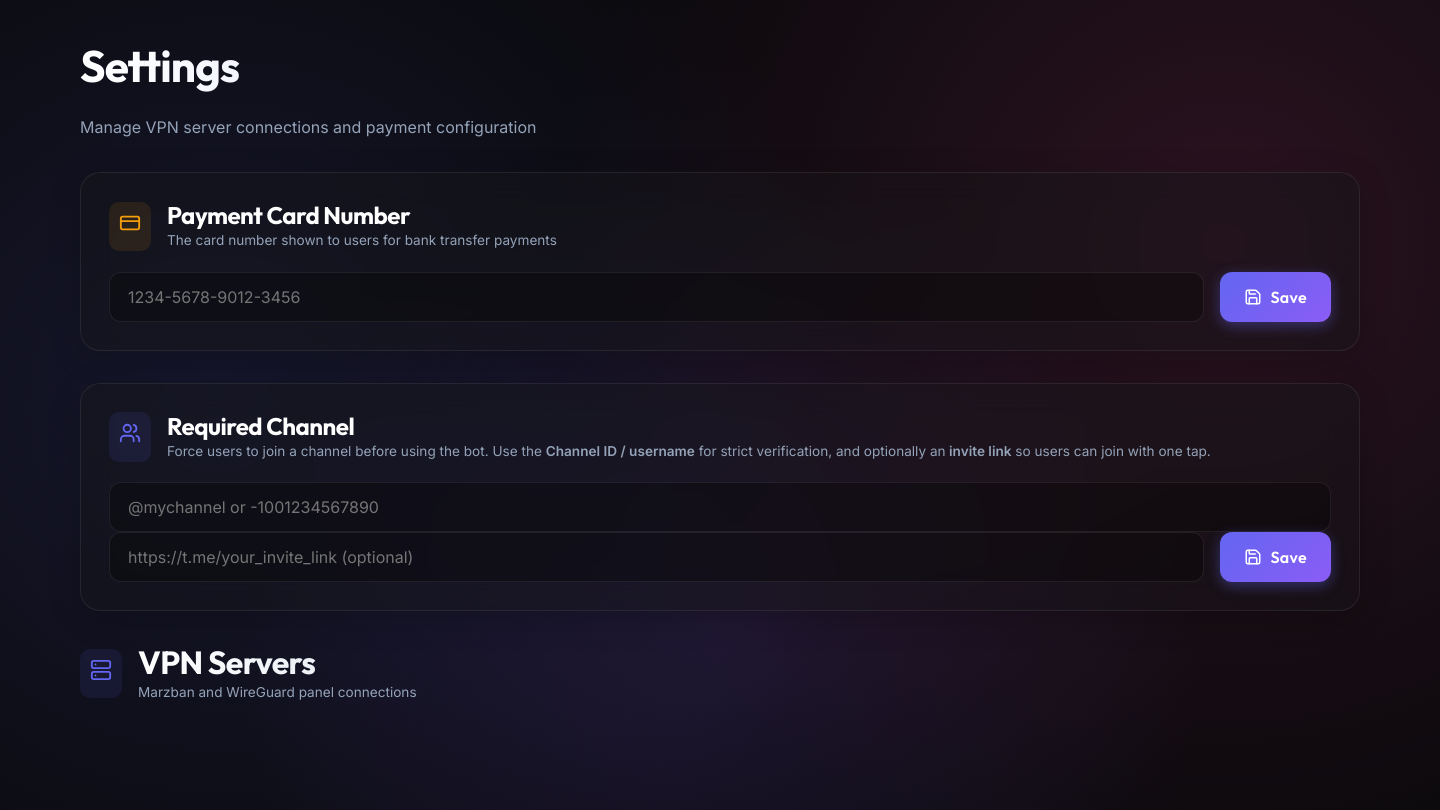
Test: Settings › shows error toast when save fails
Type "@newchannel" into the field with placeholder "@mychannel or -1001234567890". click: (720, 508)
box: [109,482,1331,532]
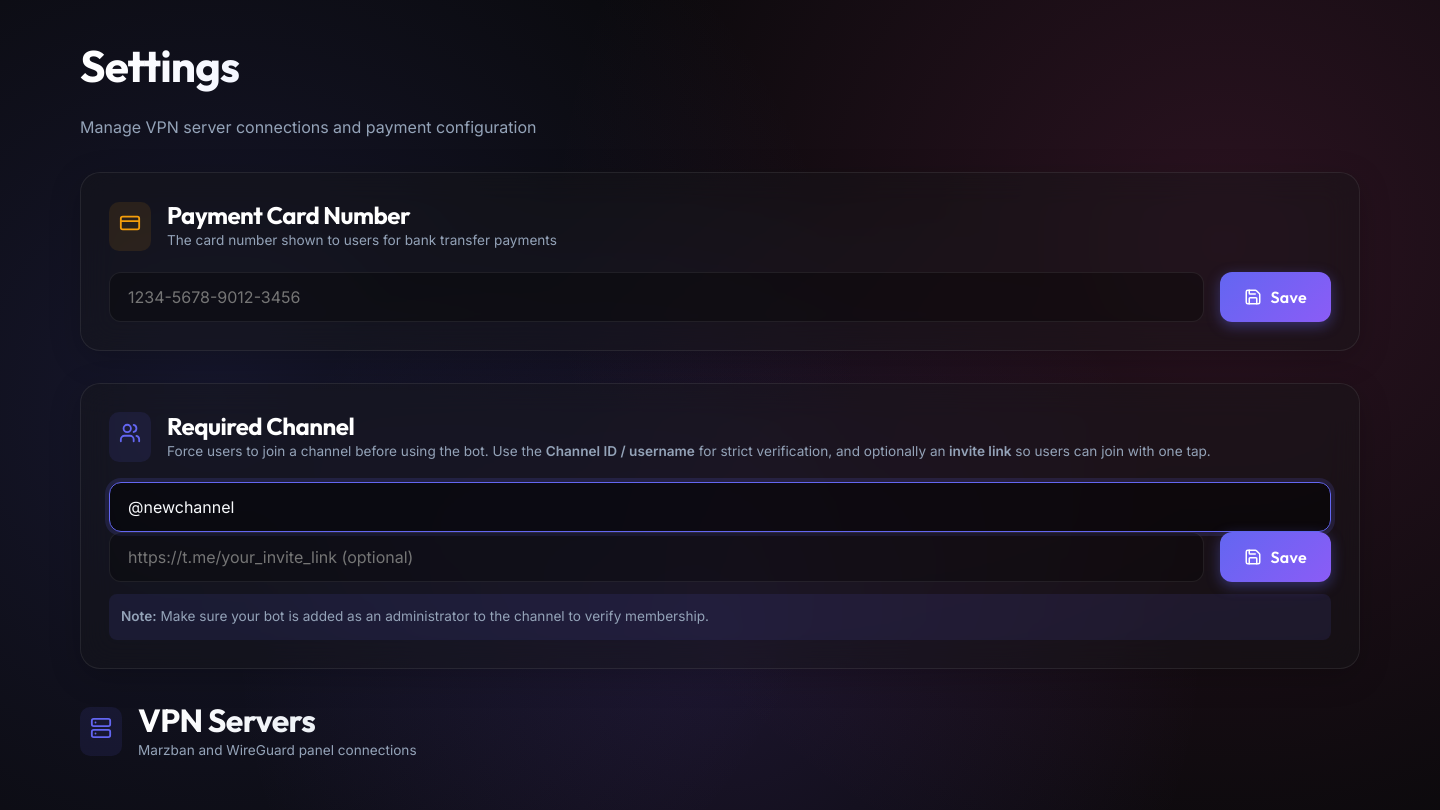
Click the button "Save" below "invite link". click: click(1276, 558)
box: [1220,532,1331,582]
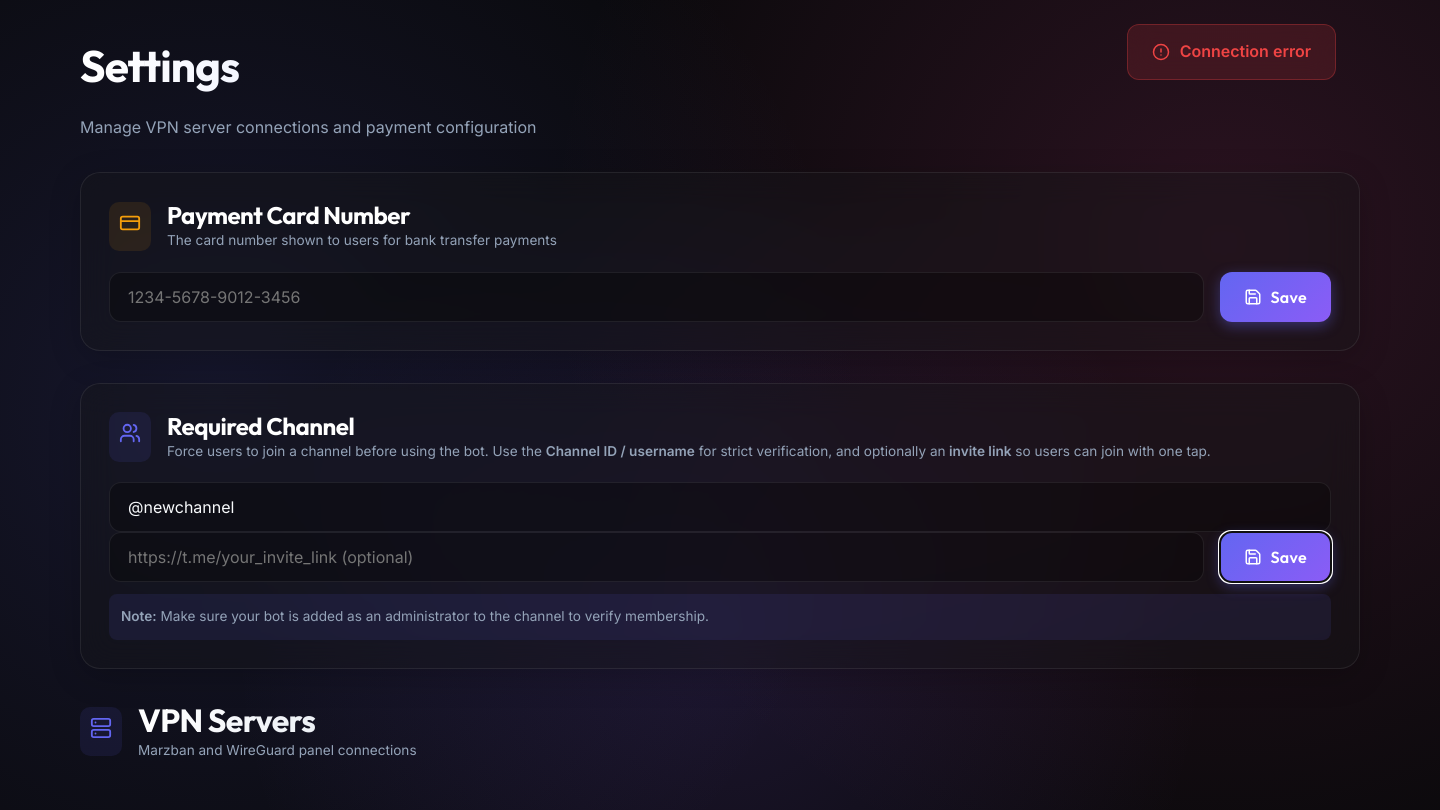
Expected: the text "Connection error" is shown, [1127,24,1336,80]
